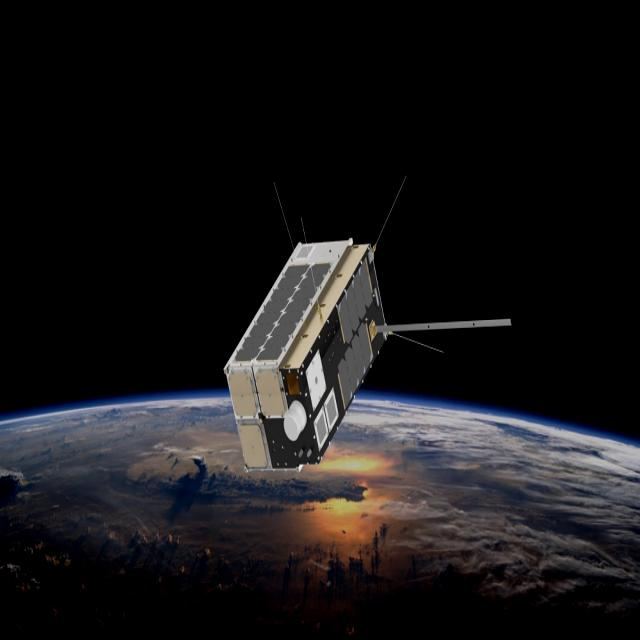satellite: (214, 167, 520, 483)
